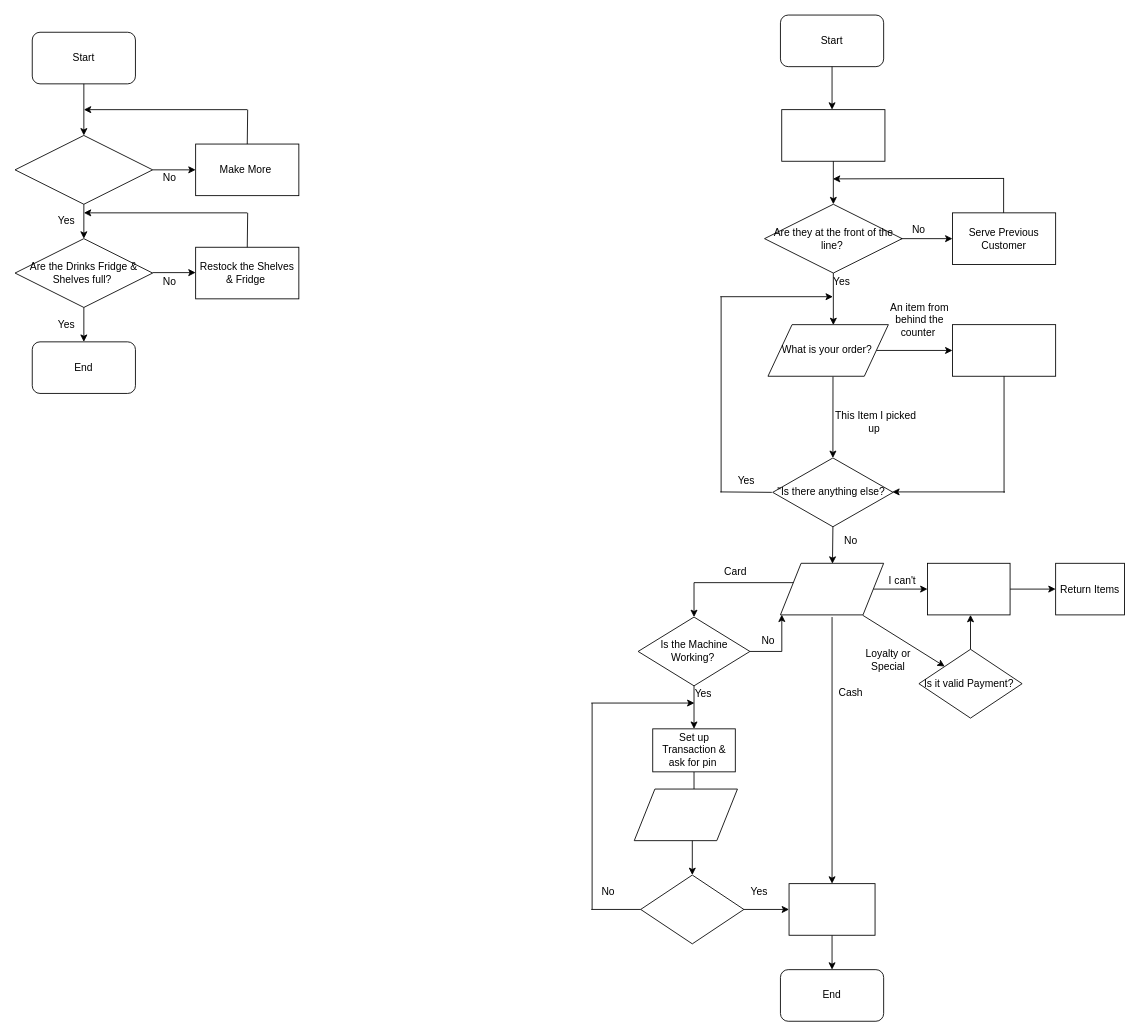
Some shapes in this 1140 by 1036 pixel diagram are drawn without their labels. Here are the shapes that lost their labels. From the top down, the box of each, then its label:
(781, 109, 885, 161): Client joins the Ordering Line
(14, 135, 153, 204): Is there enough of each Hot Food?
(952, 324, 1056, 376): Get Item
(780, 562, 884, 615): How would you like to pay?
(927, 562, 1010, 615): "Please Leave"
(633, 788, 737, 841): Ask for Pin
(640, 874, 744, 944): Did it Work?
(788, 883, 875, 935): Thank Customer
